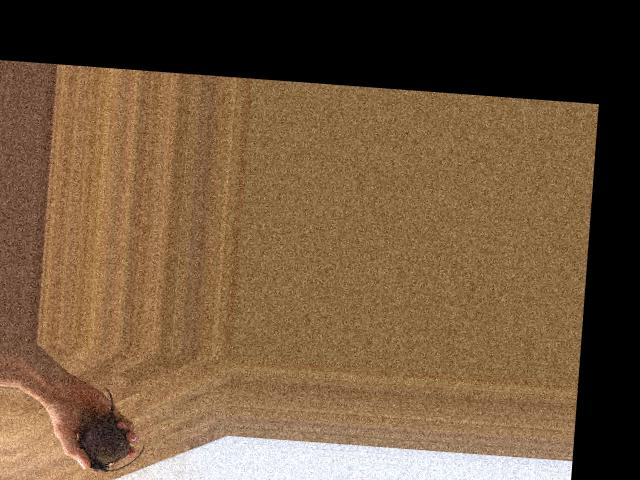beet: (77, 386, 150, 475)
